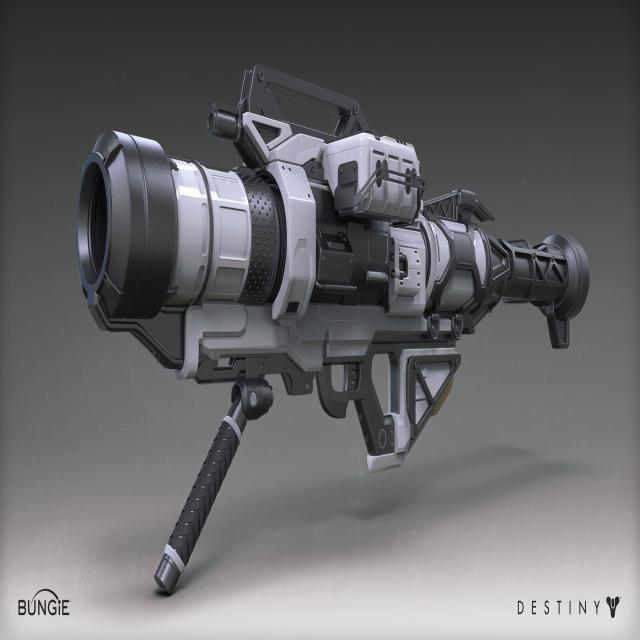bazooka: (66, 40, 604, 517)
